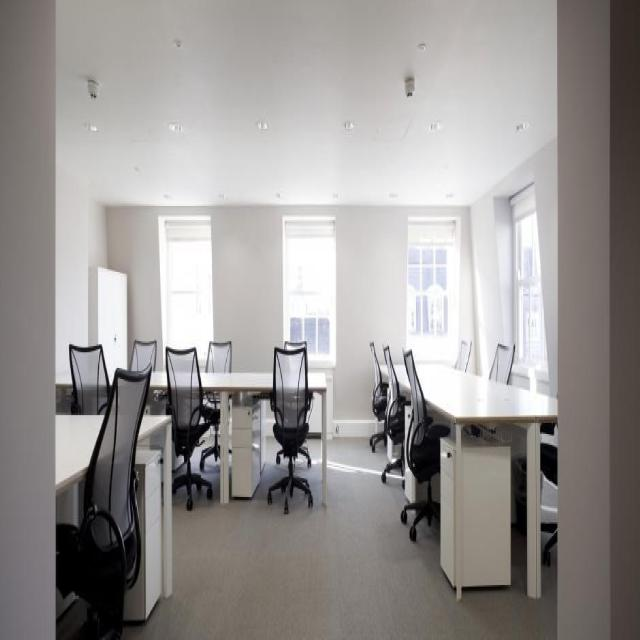other: (403, 215, 466, 365), (280, 237, 338, 371), (168, 248, 217, 358)
